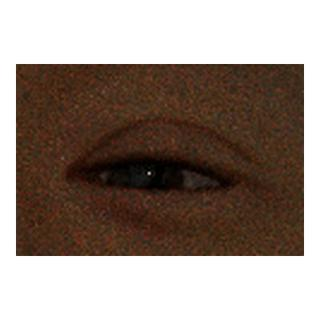pupil: (128, 168, 163, 202)
